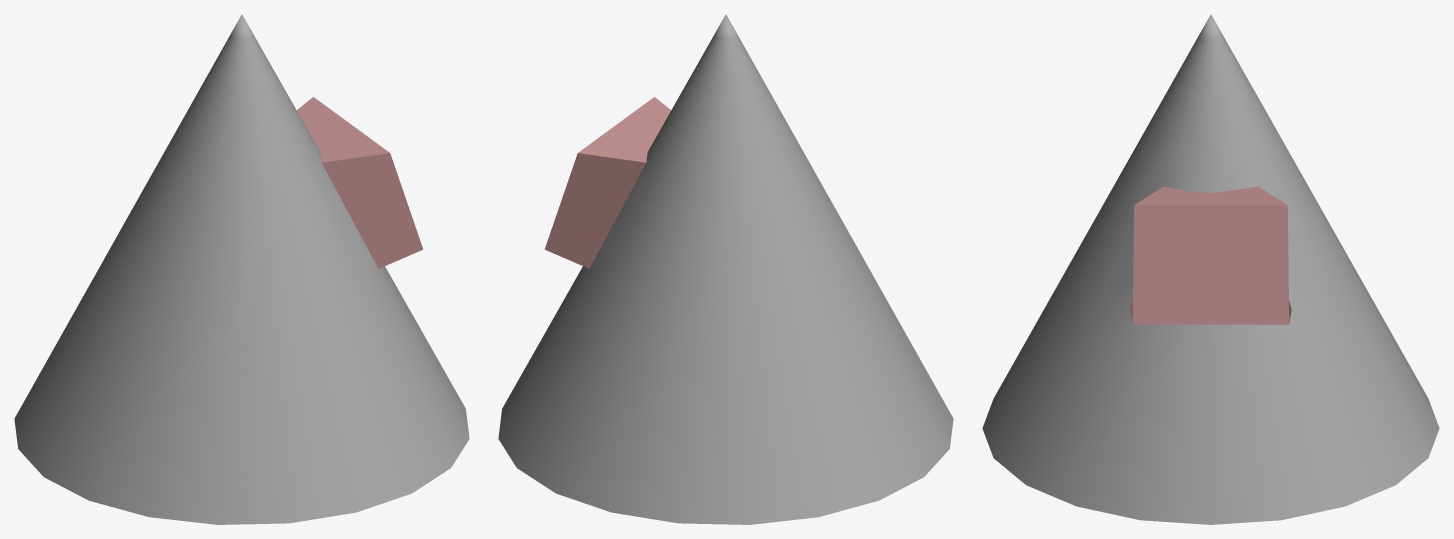
3 renders of one model, left to right at view 1: azimuth 30°, elevation 25°; view 2: azimuth 150°, elevation 25°; view 3: azimuth 270°, elevation 25°, orthographic.
Parts seen in each view (by area): view 1: pCone1; view 2: pCone1; view 3: pCone1.
Boxes of the visible parts, x1,y1,x2,y2 form: pCone1: (14, 14, 469, 524); pCone1: (498, 14, 953, 524); pCone1: (982, 14, 1439, 524).
Bounding box in the file's own units: 2 × 2 × 2.
